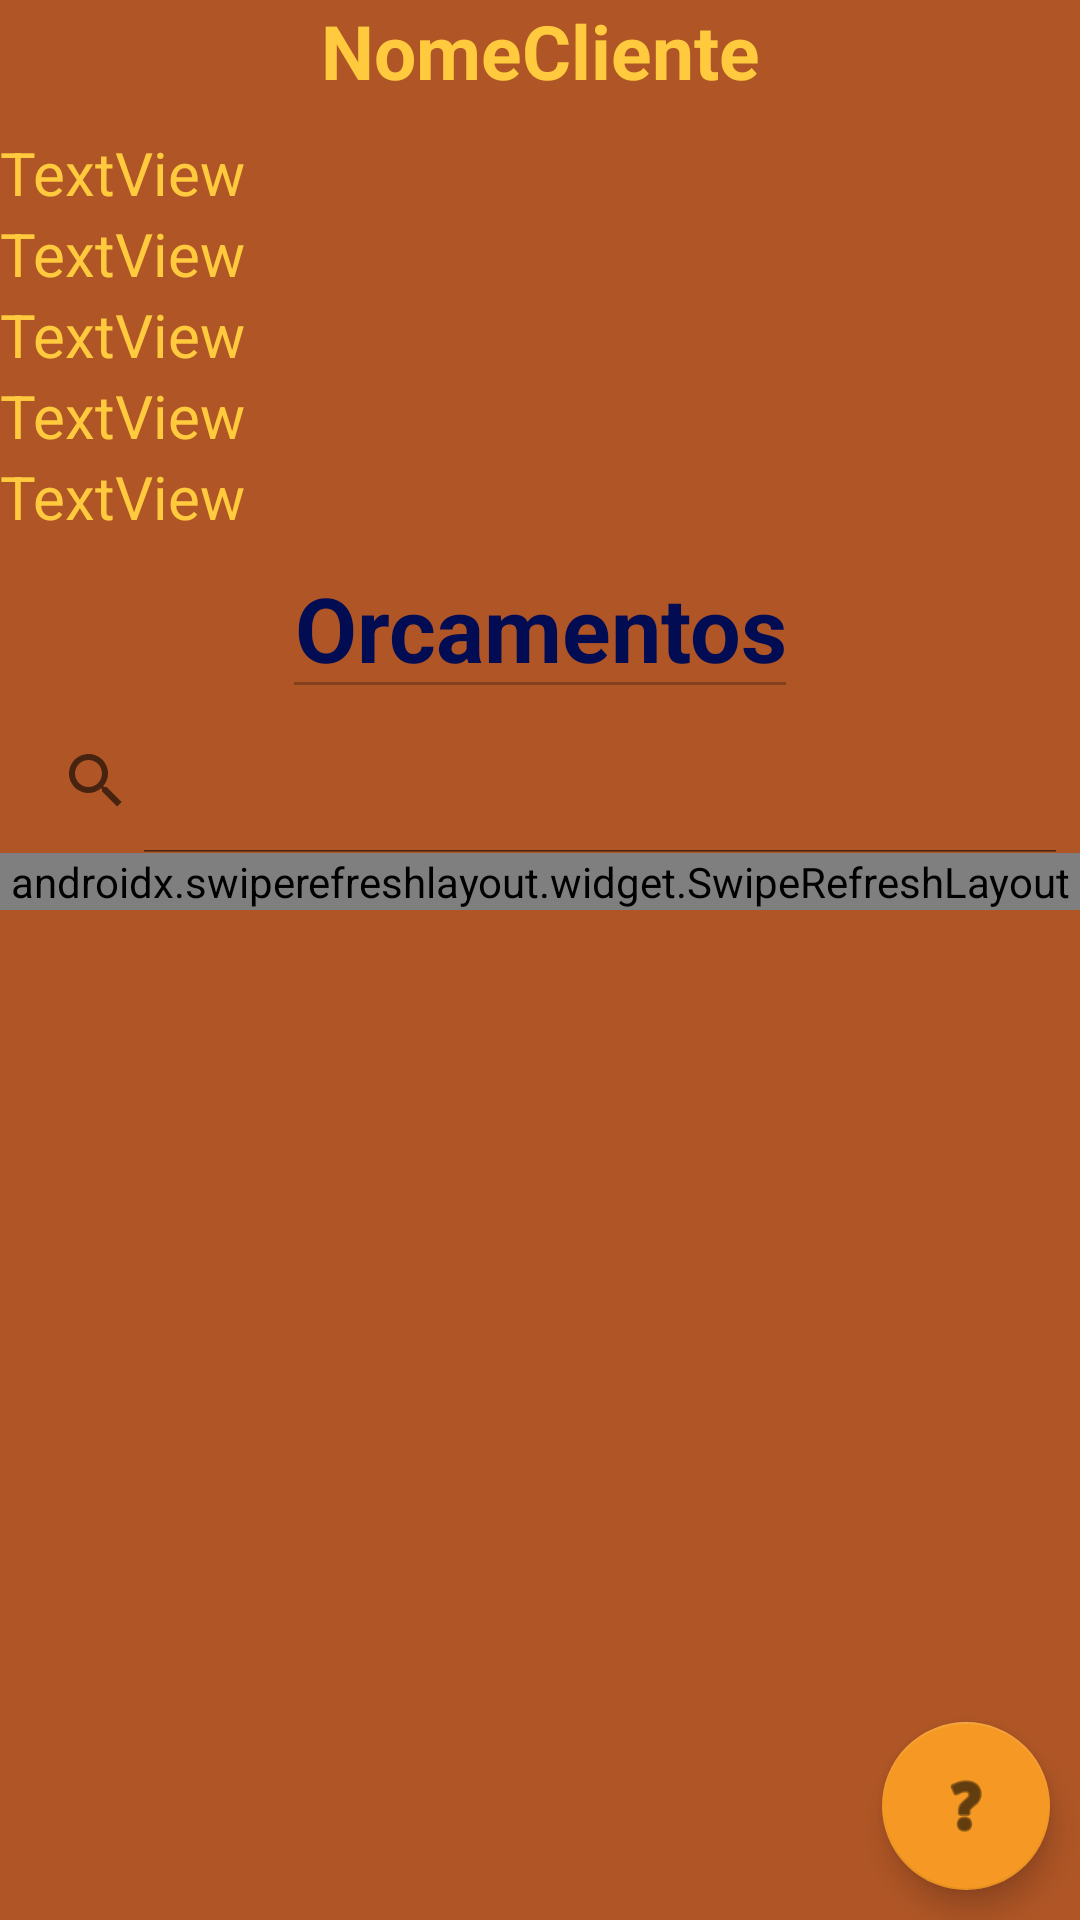

Icons on this 1080 × 1920 Android screen, each with the point to tap as (x=x, y=y):
help: (x=966, y=1806)
